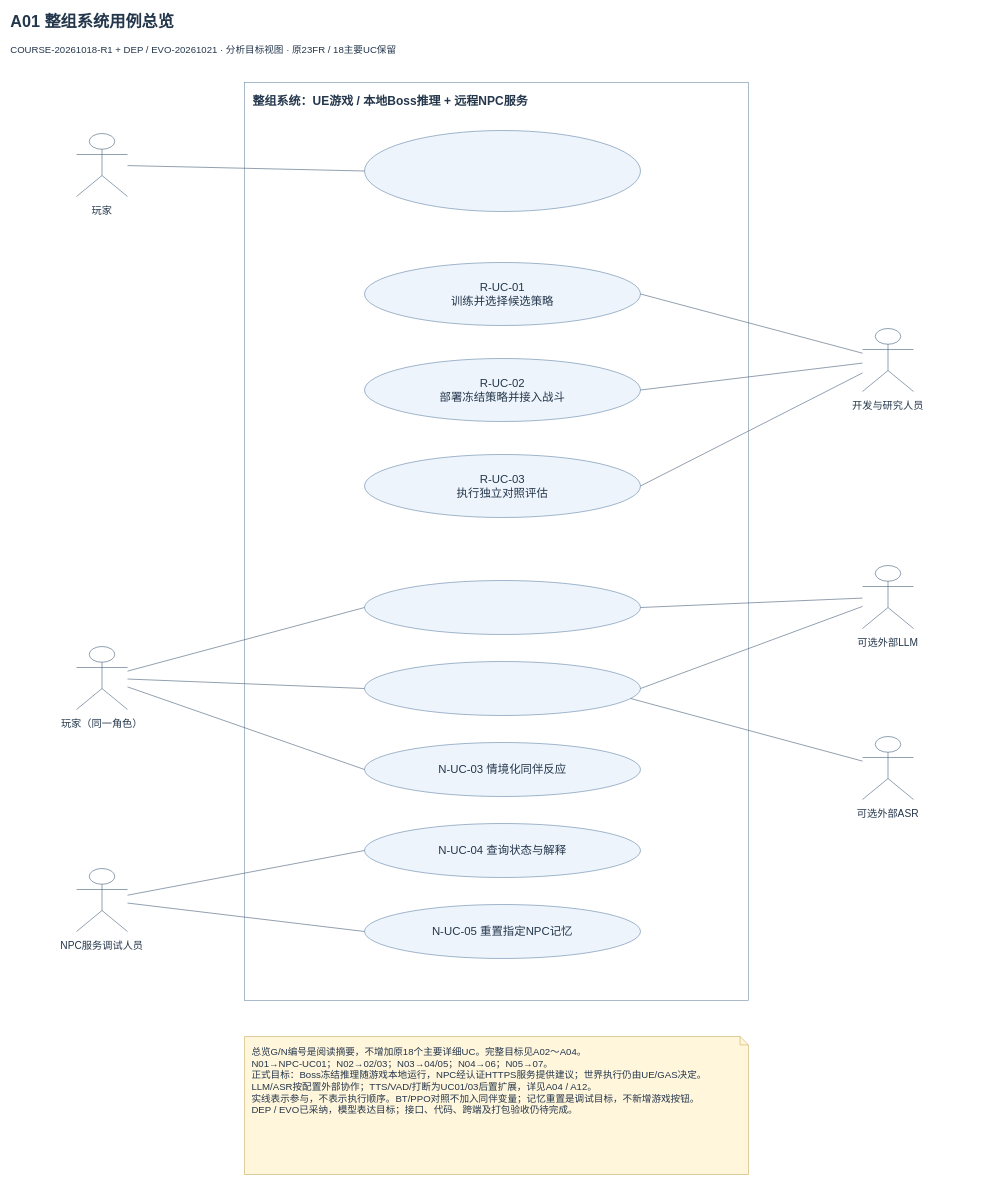
The diagram is 1004 pixels wide and 1185 high, and some of its shapes have lost their labels. The shapes that lost their labels are listed below. From the top down, each one's box as (x1, y1, x2, y2) in pixels, then its label:
(364, 130, 640, 212): G-UC-01～08 游戏流程摘要 开始、探索、挑战、战斗、结算 重试、返回菜单及退出
(364, 580, 640, 634): N-UC-01 人格化对话
(364, 661, 640, 716): N-UC-02 文本 / 语音协作
